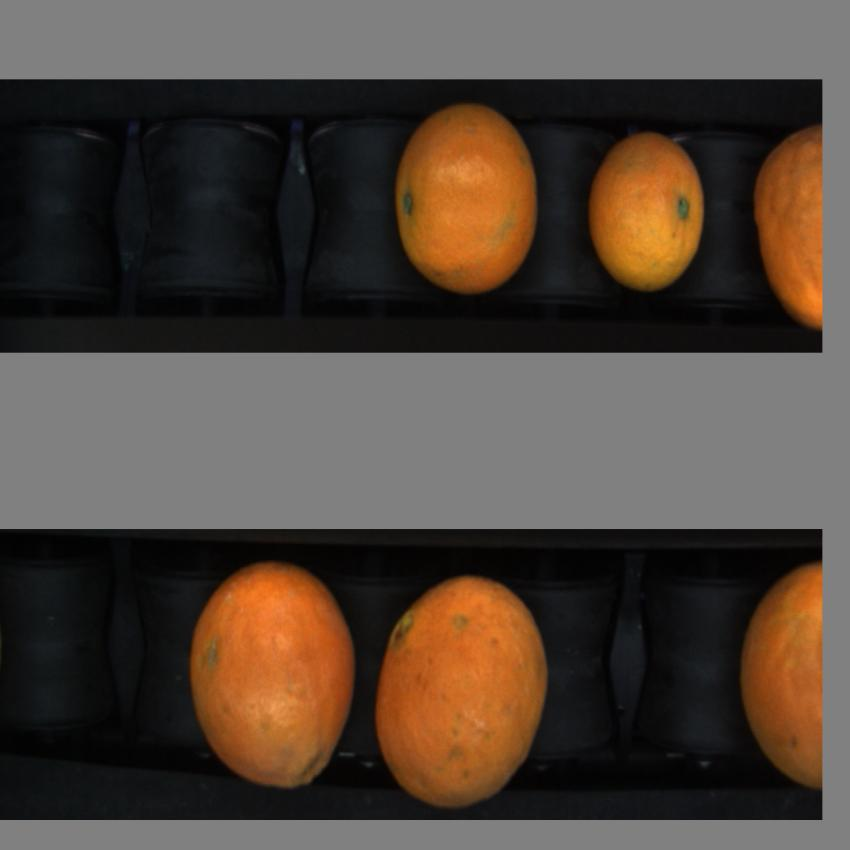Buen estado: (183, 550, 362, 800), (374, 569, 549, 801), (392, 94, 545, 298), (588, 117, 712, 301), (738, 553, 822, 796)
Mal estado: (742, 118, 824, 327)
